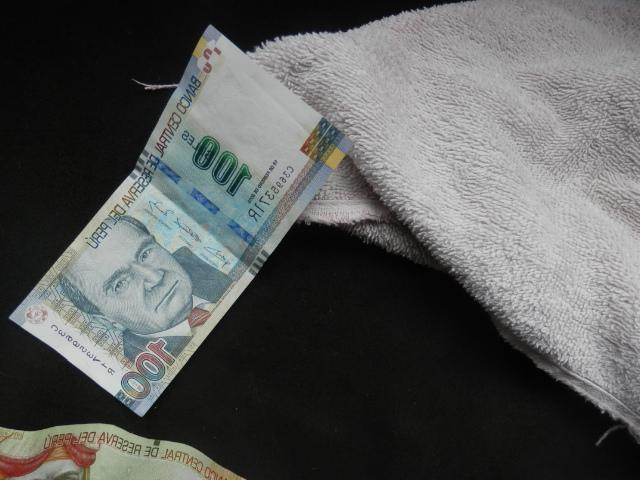B100: (7, 25, 357, 416)
